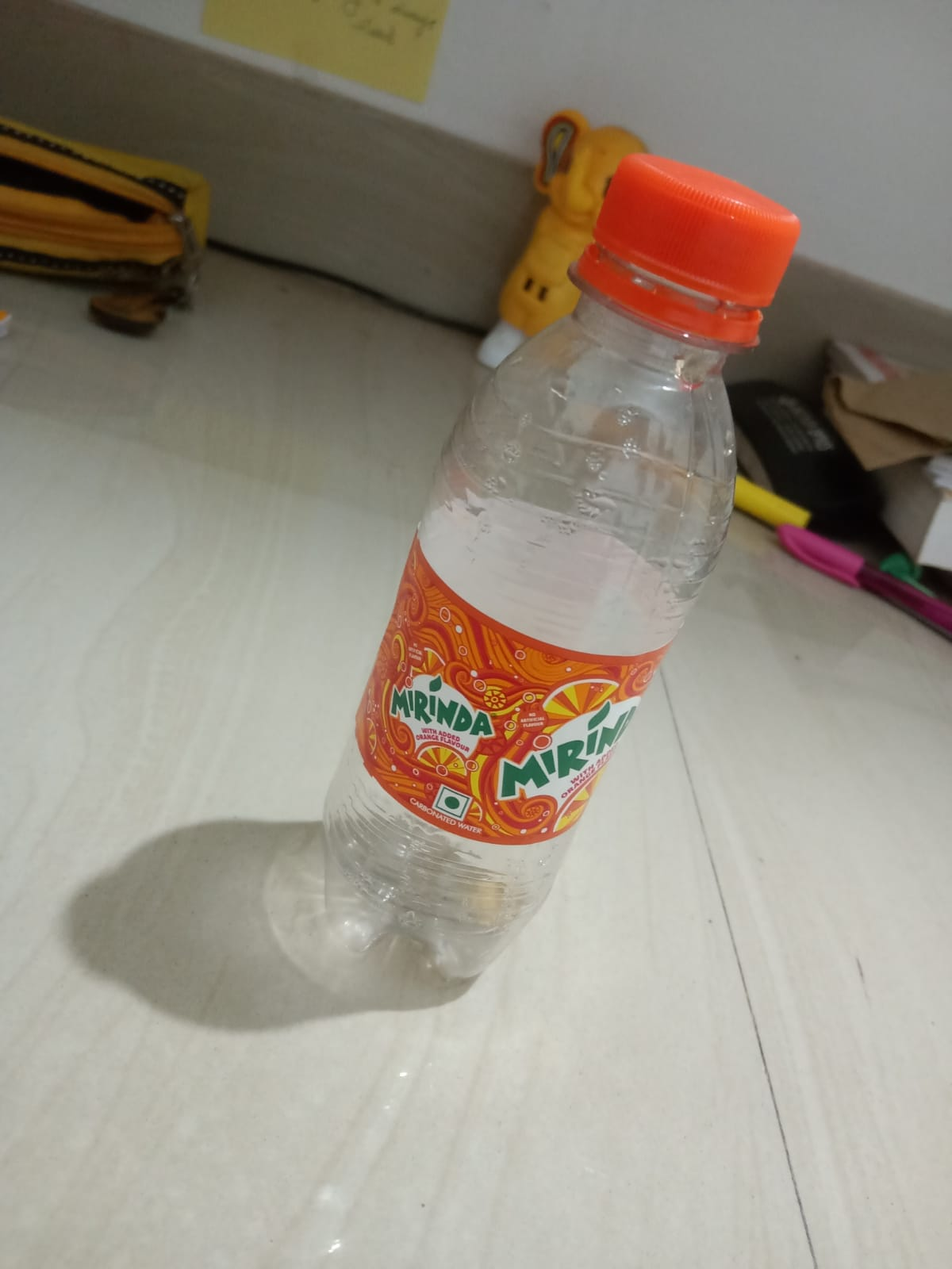plastic: (281, 101, 839, 1083)
